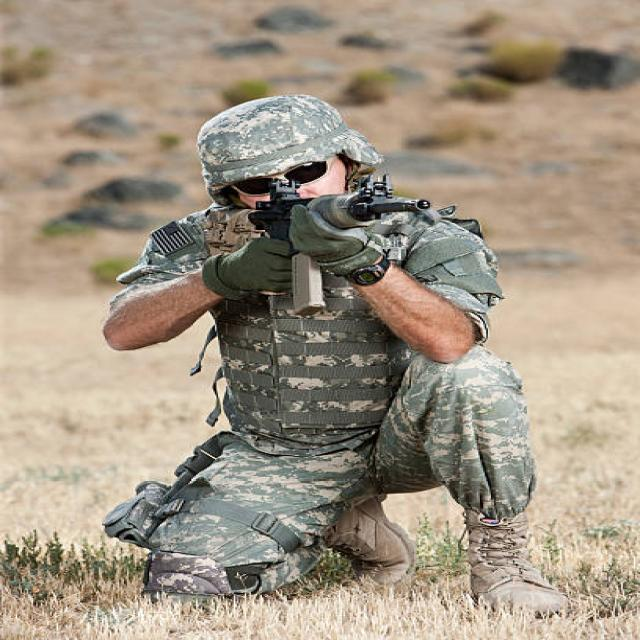soldier: (94, 90, 569, 618)
